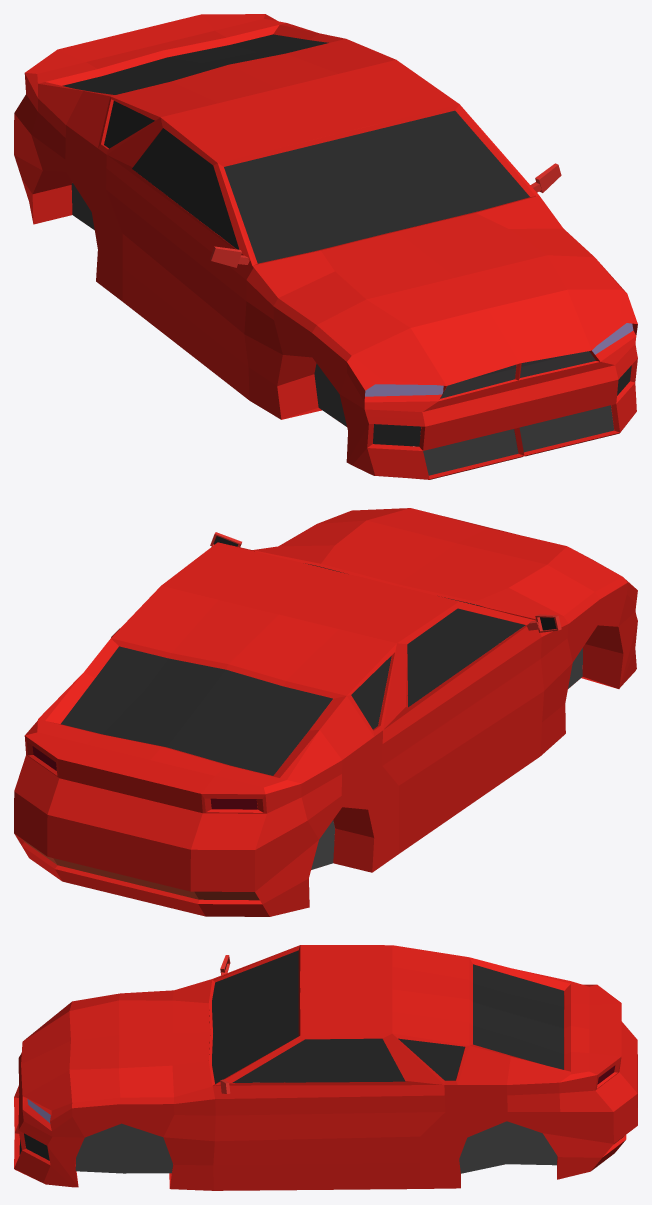
The model's file is car_body.glb.
The picture shows the model from 3 angles, top to bottom: view 1: azimuth 30°, elevation 25°; view 2: azimuth 150°, elevation 25°; view 3: azimuth 270°, elevation 25°; orthographic projection. The views are drawn at different scales.
Parts seen in each view (by area): view 1: CarBody.002; view 2: CarBody.002; view 3: CarBody.002.
Boxes of the visible parts, <box> form: CarBody.002: <box>14,14,637,479</box>; CarBody.002: <box>14,508,637,916</box>; CarBody.002: <box>14,945,637,1190</box>.
Bounding box in the file's own units: 2.26 × 1.19 × 4.55.
